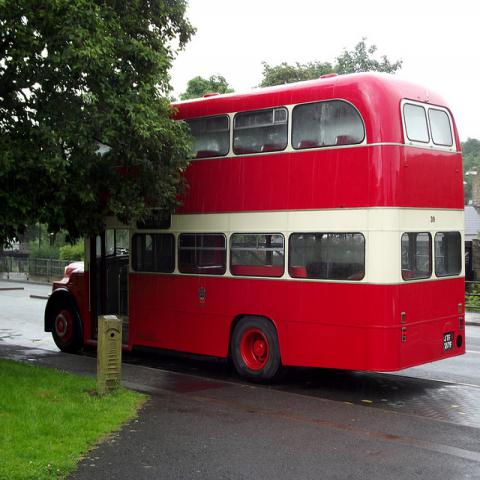bus: (44, 72, 467, 381)
